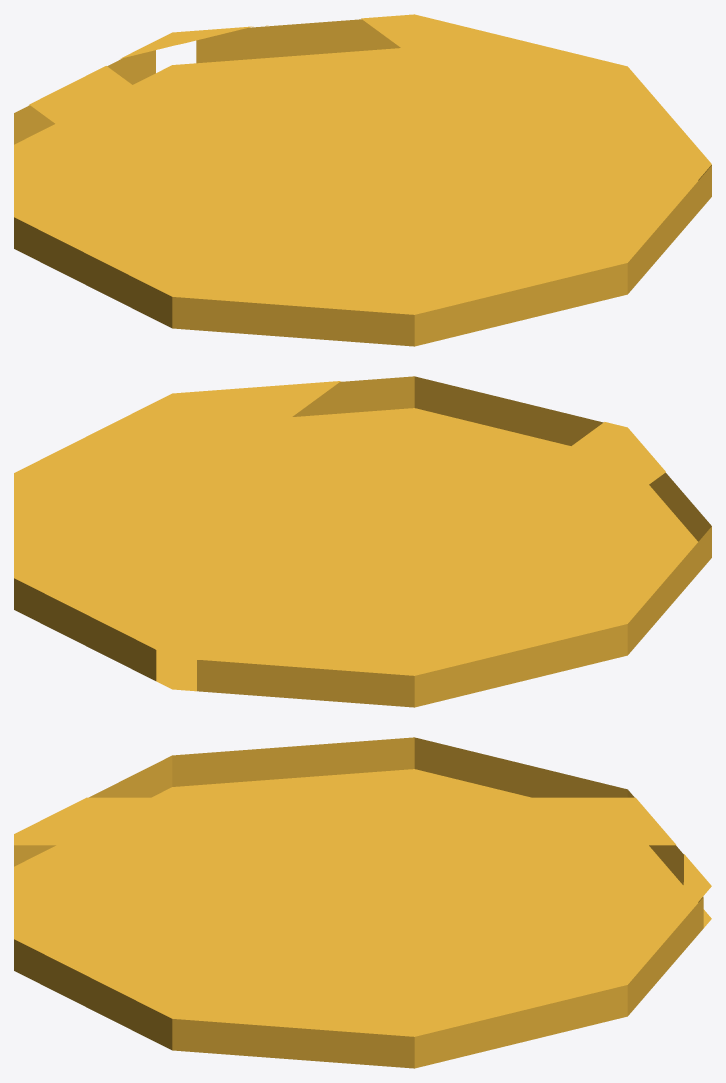
The model's file is Булка.fbx.
3 views of the same model, one above another, from view 1: azimuth 30°, elevation 25°; view 2: azimuth 150°, elevation 25°; view 3: azimuth 270°, elevation 25° (orthographic).
Parts seen in each view (by area): view 1: Cube.010; view 2: Cube.010; view 3: Cube.010.
Part boxes in pixels (box(x1,y1,x2,y2)): Cube.010: box(14, 14, 711, 346); Cube.010: box(14, 376, 711, 707); Cube.010: box(14, 737, 711, 1068).
Bounding box in the file's own units: 985 × 50 × 970.
Materials: 1 (1 with a texture image).
